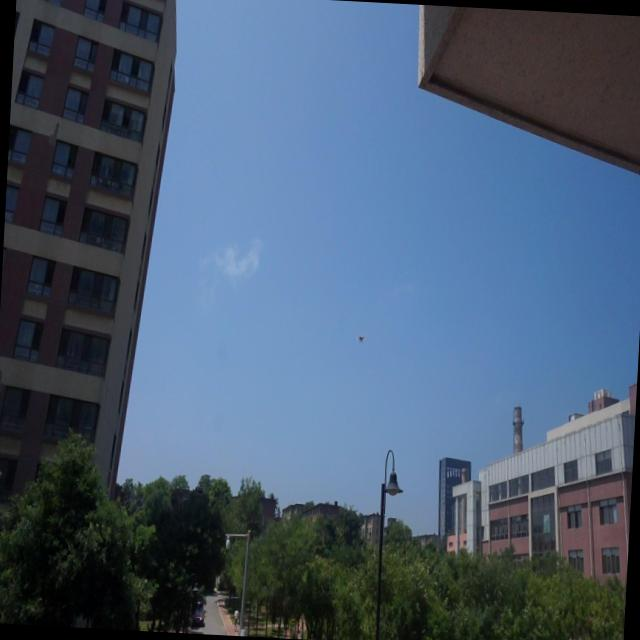drone: (358, 331, 367, 345)
